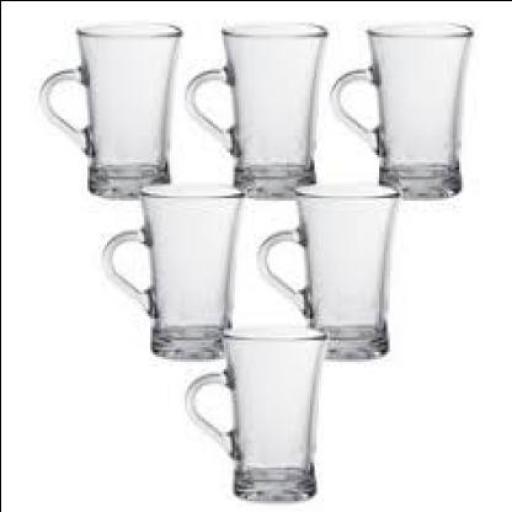glass: (102, 176, 246, 353), (333, 16, 473, 198), (41, 16, 182, 192), (259, 180, 399, 356), (186, 20, 328, 192), (188, 325, 326, 497)
